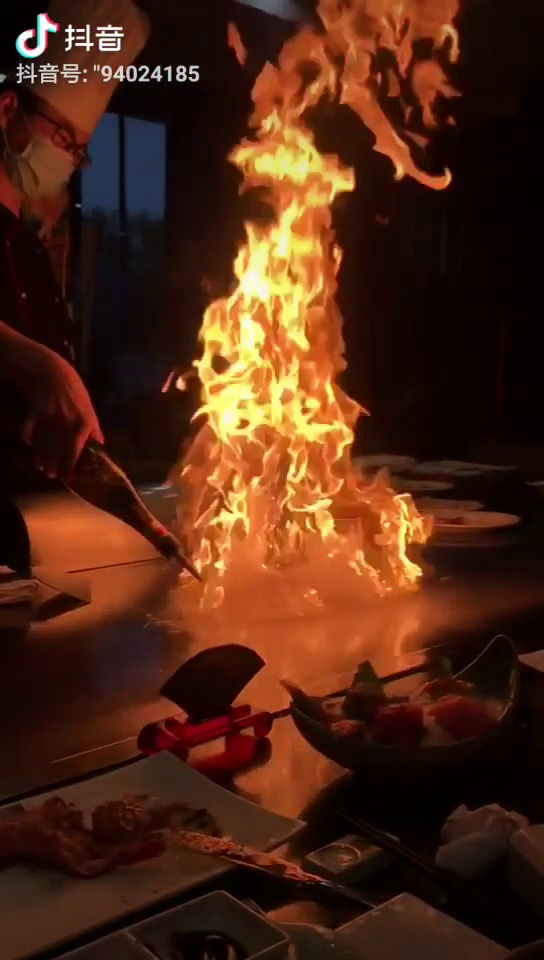fire: (187, 300, 419, 603), (224, 25, 347, 310)
